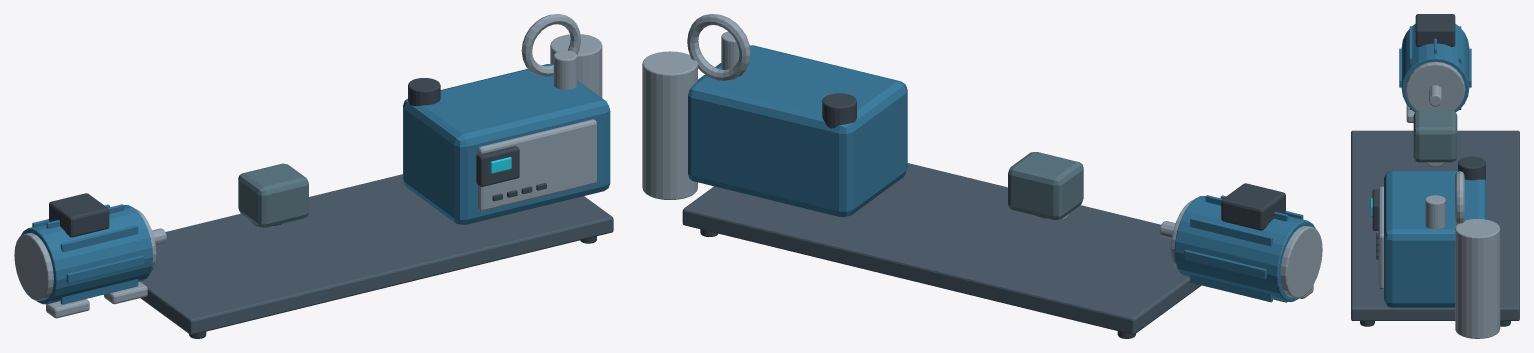
File: air-compressor-lod1.glb
3 views of the same model, side by side, from view 1: azimuth 30°, elevation 25°; view 2: azimuth 150°, elevation 25°; view 3: azimuth 270°, elevation 25° (orthographic). The views are drawn at different scales.
Parts seen in each view (by area): view 1: drive_base, compressor_casing, compressor_service_cover, motor, coupling_guard, motor_rear_endcap, motor_terminal_box, oil_separator, compressor_pipe_elbow, compressor_control_panel, compressor_discharge, compressor_inlet_filter (+5 smaller); view 2: drive_base, compressor_casing, oil_separator, motor, coupling_guard, motor_rear_endcap, motor_terminal_box, compressor_pipe_elbow, compressor_inlet_filter, motor_cooling_fin_00, motor_cooling_fin_01, motor_cooling_fin_07 (+1 smaller); view 3: drive_base, compressor_casing, oil_separator, coupling_guard, motor_front_endcap, motor, motor_terminal_box, compressor_discharge, compressor_service_cover, compressor_inlet_filter, compressor_pipe_elbow, compressor_control_panel (+3 smaller).
Part boxes in pixels (x1,y1,x2,y2): drive_base: (140,174,613,334); compressor_casing: (403,64,610,224); compressor_service_cover: (478,119,596,211); motor: (21,205,152,304); coupling_guard: (238,163,308,227); motor_rear_endcap: (14,233,53,300); motor_terminal_box: (49,193,109,237); oil_separator: (550,34,602,97); compressor_pipe_elbow: (521,14,580,76); compressor_control_panel: (476,146,519,186); compressor_discharge: (553,50,577,89); compressor_inlet_filter: (408,78,440,106); drive_base: (682,163,1201,334); compressor_casing: (688,45,907,217); oil_separator: (642,51,697,199); motor: (1174,196,1315,301); coupling_guard: (1008,152,1083,220); motor_rear_endcap: (1280,226,1322,298); motor_terminal_box: (1221,183,1285,230); compressor_pipe_elbow: (687,14,750,80); compressor_inlet_filter: (822,93,856,128); motor_cooling_fin_00: (1184,249,1266,279); motor_cooling_fin_01: (1190,217,1272,246); motor_cooling_fin_07: (1190,274,1272,302); drive_base: (1351,130,1519,320); compressor_casing: (1384,170,1486,307); oil_separator: (1455,219,1500,338); coupling_guard: (1413,110,1457,162); motor_front_endcap: (1405,61,1465,110); motor: (1401,24,1469,111); motor_terminal_box: (1415,14,1455,46); compressor_discharge: (1425,195,1445,229); compressor_service_cover: (1378,186,1383,289); compressor_inlet_filter: (1458,156,1485,180); compressor_pipe_elbow: (1455,171,1464,225); compressor_control_panel: (1372,189,1378,230).
Bounding box in the file's own units: 12.58 × 3.7 × 3.6.
